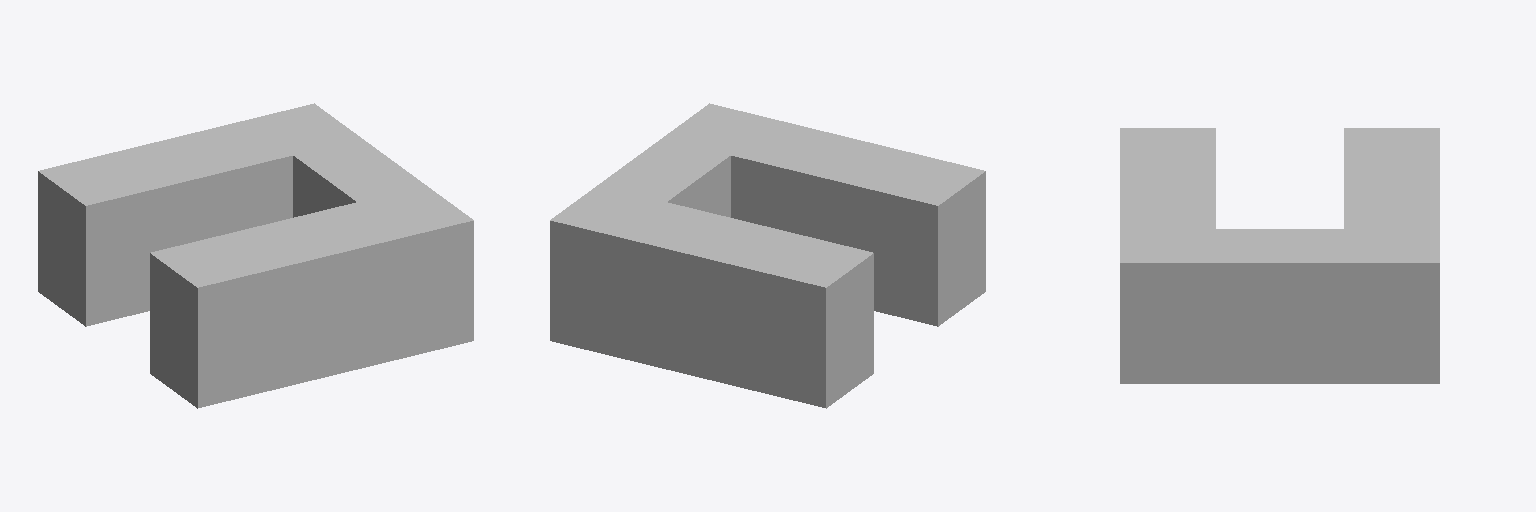
File: U_cube_cap_ext_preprocessed.obj
3 renders of one model, left to right at view 1: azimuth 30°, elevation 25°; view 2: azimuth 150°, elevation 25°; view 3: azimuth 270°, elevation 25°, orthographic.
Size of the model in its own units: 0.048 by 0.02 by 0.048.